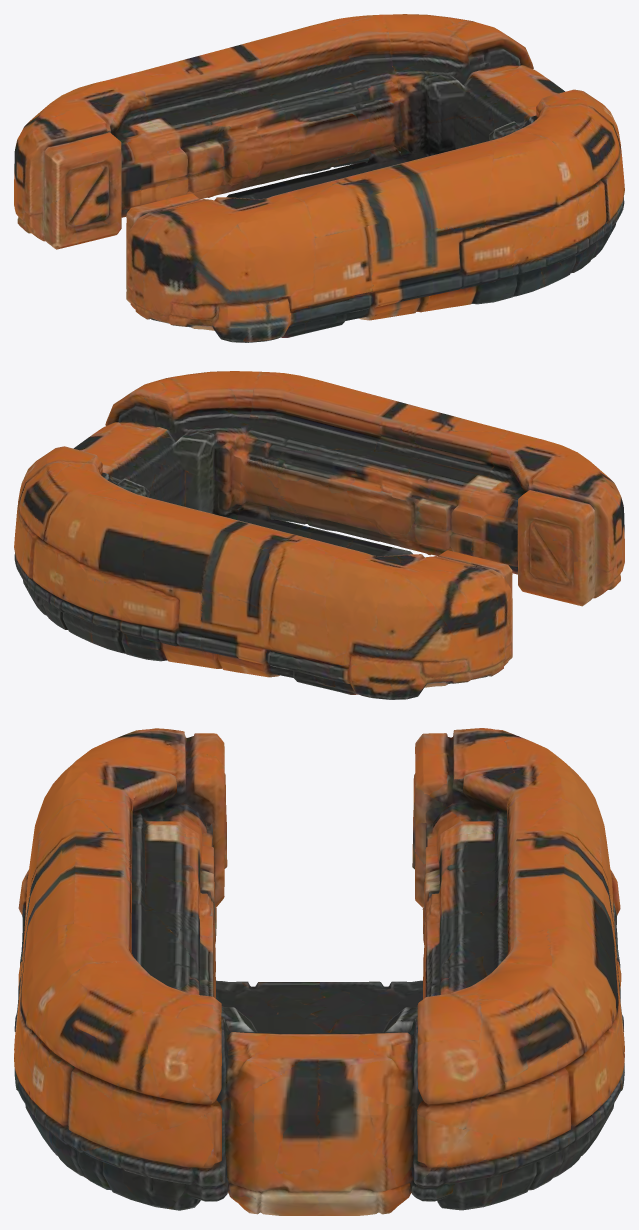
Rendered from arc-relay-lean.glb.
3 views of the same model, one above another, from view 1: azimuth 30°, elevation 25°; view 2: azimuth 150°, elevation 25°; view 3: azimuth 270°, elevation 25° (orthographic). The views are drawn at different scales.
Visible parts, largest first — view 1: chassis; view 2: chassis; view 3: chassis.
Part boxes in pixels (x1,y1,x2,y2): chassis: [14, 14, 624, 342]; chassis: [14, 371, 624, 699]; chassis: [14, 728, 624, 1215].
Size of the model in its own units: 0.9898 by 0.2807 by 0.7564.
1 material, 1 textured.
